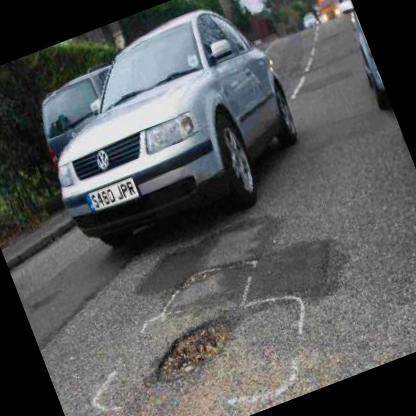pothole: (140, 312, 240, 390), (170, 258, 224, 291)
